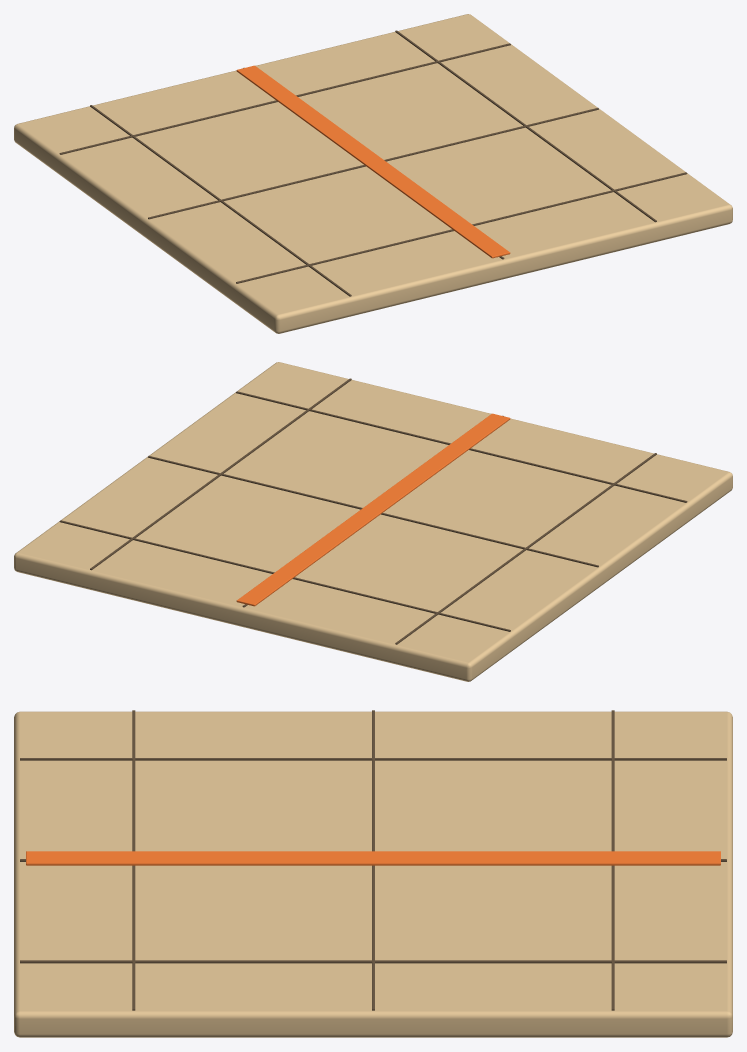
Rendered from GroundTile.fbx.
3 renders of one model, top to bottom at view 1: azimuth 30°, elevation 25°; view 2: azimuth 150°, elevation 25°; view 3: azimuth 270°, elevation 25°, orthographic. The views are drawn at different scales.
Parts seen in each view (by area): view 1: Paving_Slab, Paving_RouteStripe, Paving_ExpansionJoint.003, Paving_ExpansionJoint.005, Paving_ExpansionJoint.004, Paving_ExpansionJoint, Paving_ExpansionJoint.002; view 2: Paving_Slab, Paving_RouteStripe, Paving_ExpansionJoint.003, Paving_ExpansionJoint.005, Paving_ExpansionJoint.004, Paving_ExpansionJoint, Paving_ExpansionJoint.002; view 3: Paving_Slab, Paving_RouteStripe, Paving_ExpansionJoint.002, Paving_ExpansionJoint, Paving_ExpansionJoint.003, Paving_ExpansionJoint.005, Paving_ExpansionJoint.004.
Part boxes in pixels (x1,y1,x2,y2): Paving_Slab: [14, 14, 732, 333]; Paving_RouteStripe: [236, 65, 510, 258]; Paving_ExpansionJoint.003: [236, 172, 687, 283]; Paving_ExpansionJoint.005: [59, 43, 510, 154]; Paving_ExpansionJoint.004: [148, 108, 598, 219]; Paving_ExpansionJoint: [90, 105, 351, 296]; Paving_ExpansionJoint.002: [395, 30, 656, 222]; Paving_Slab: [14, 362, 732, 681]; Paving_RouteStripe: [236, 413, 510, 606]; Paving_ExpansionJoint.003: [236, 391, 687, 502]; Paving_ExpansionJoint.005: [59, 520, 510, 631]; Paving_ExpansionJoint.004: [148, 456, 598, 567]; Paving_ExpansionJoint: [395, 453, 656, 644]; Paving_ExpansionJoint.002: [90, 378, 351, 570]; Paving_Slab: [14, 711, 732, 1037]; Paving_RouteStripe: [26, 851, 720, 865]; Paving_ExpansionJoint.002: [20, 960, 726, 963]; Paving_ExpansionJoint: [20, 758, 726, 760]; Paving_ExpansionJoint.003: [132, 710, 135, 1010]; Paving_ExpansionJoint.005: [611, 710, 614, 1010]; Paving_ExpansionJoint.004: [372, 710, 374, 1010].
Size of the model in its own units: 3 by 0.141 by 3.
